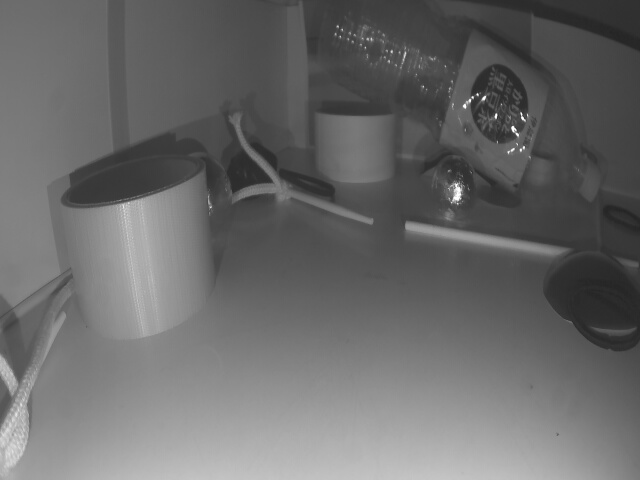Dead: (229, 143, 278, 200)
Live: (435, 154, 474, 217)
